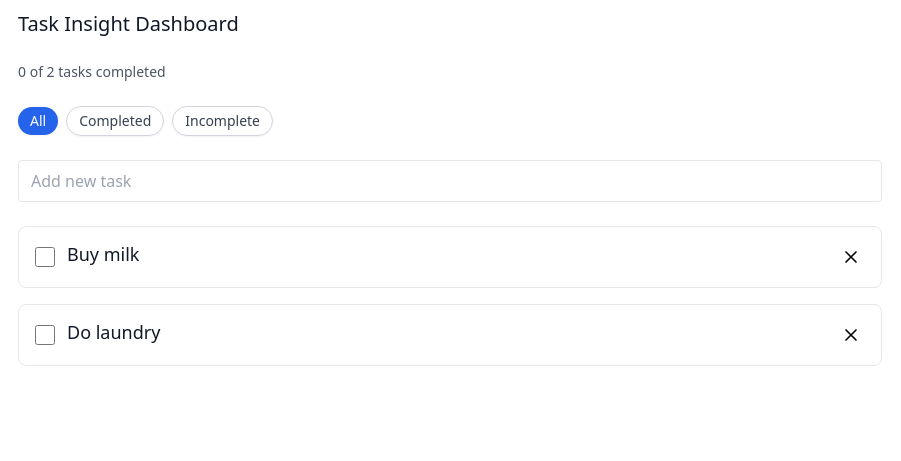
Test: <App /> › task adding › adding a new task updates the task list and clears input
Expected: the text "Walk the dog" is not shown
Action: type a new task and submit (Enter)
Type "Walk the dog" into the field with placeholder "Add new task" at x=450, y=181, box [18,160,882,202]
Then press Enter
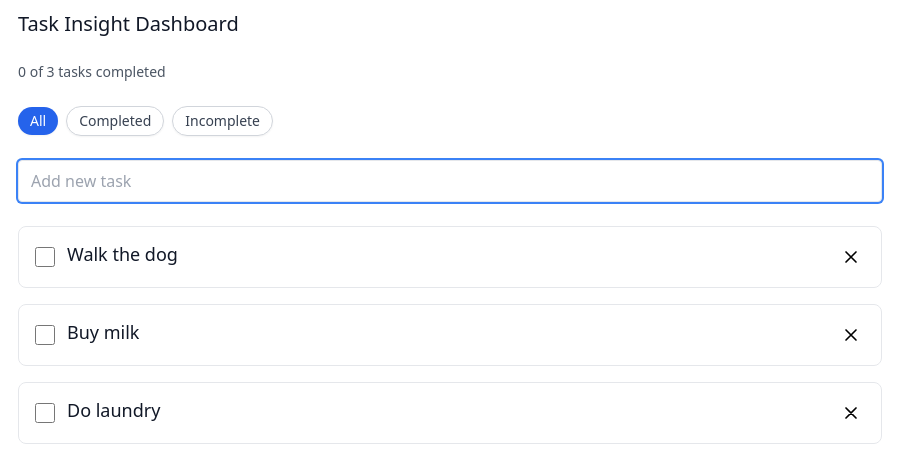
Now the heading "Walk the dog" is shown, box [67,242,178,266]
